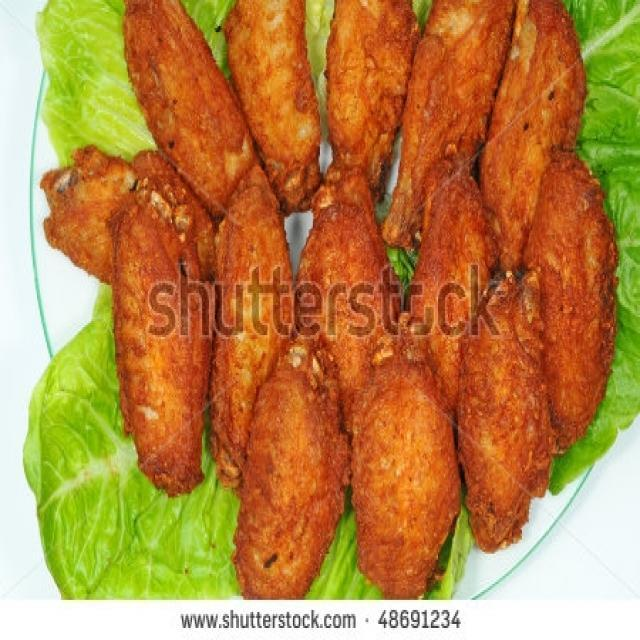Deep fried chicken wing: (50, 22, 609, 580)
